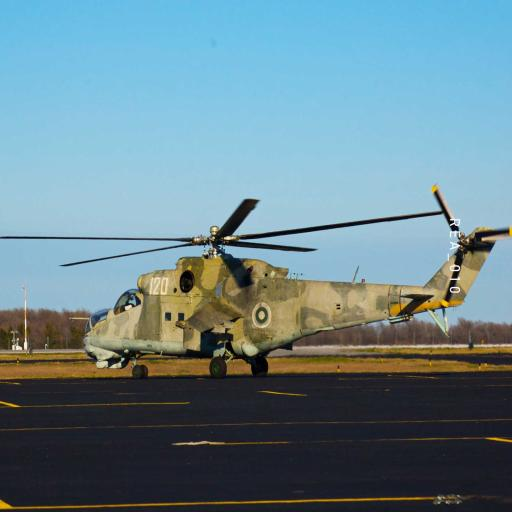helicopter: (3, 181, 512, 389)
